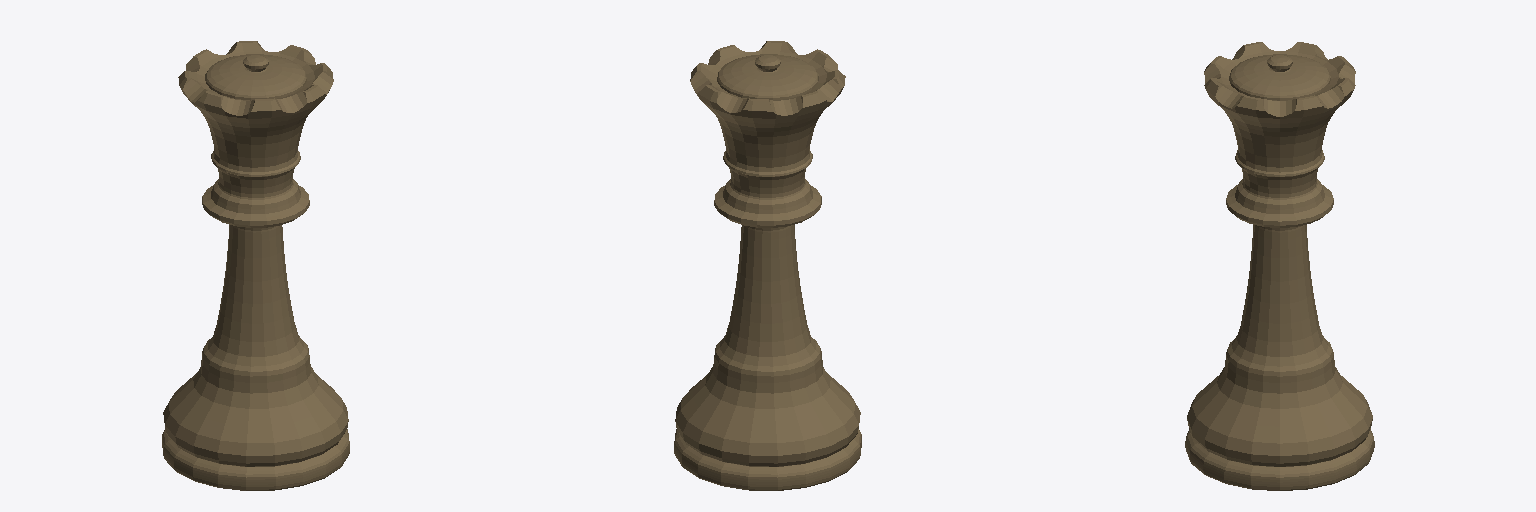
The model's file is reinaBlanca.obj.
3 views of the same model, side by side, from view 1: azimuth 30°, elevation 25°; view 2: azimuth 150°, elevation 25°; view 3: azimuth 270°, elevation 25° (orthographic).
Visible parts, largest first — view 1: body; view 2: body; view 3: body.
Part boxes in pixels (x1,y1,x2,y2): body: (162,41,349,490); body: (674,41,861,490); body: (1185,42,1374,490).
Bounding box in the file's own units: 1.86 × 4.29 × 1.86.